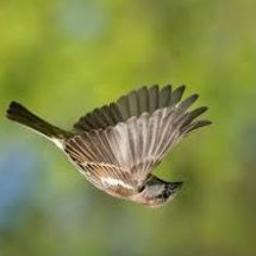Sparrow: (6, 86, 212, 208)
